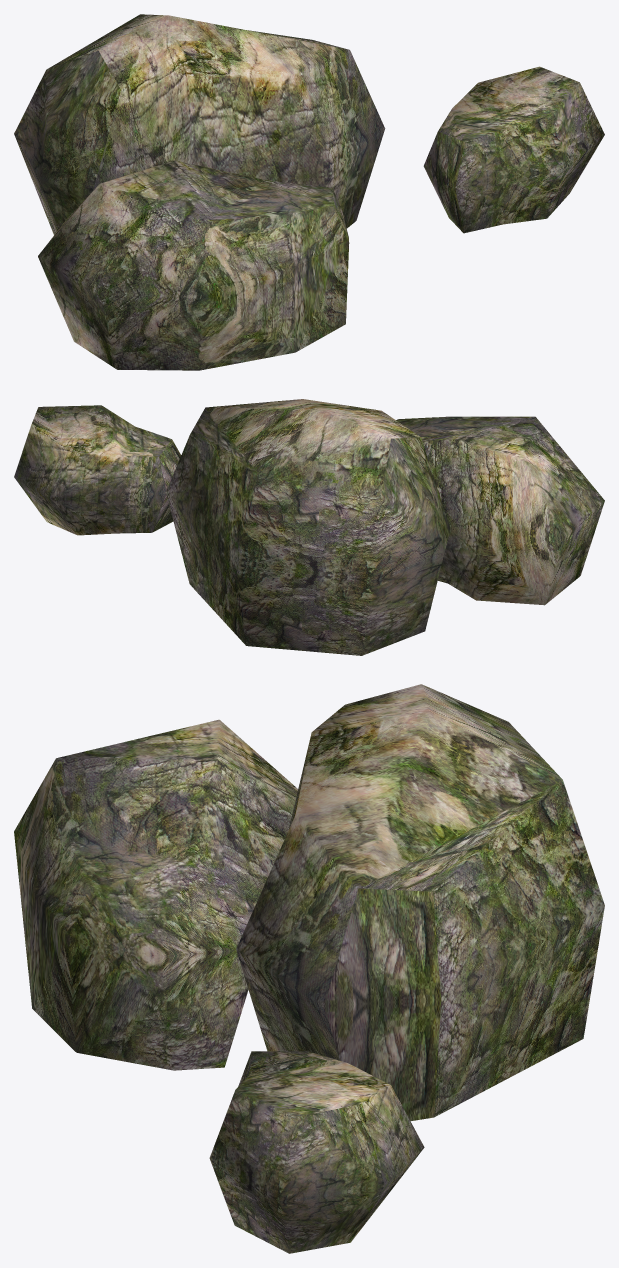
File: S_Rock_Green036.FBX
3 renders of one model, top to bottom at view 1: azimuth 30°, elevation 25°; view 2: azimuth 150°, elevation 25°; view 3: azimuth 270°, elevation 25°, orthographic. The views are drawn at different scales.
Visible parts, largest first — view 1: S_Rock_Green036; view 2: S_Rock_Green036; view 3: S_Rock_Green036.
Boxes of the visible parts, box(x1,y1,x2,y2) form: S_Rock_Green036: box(14, 14, 604, 370); S_Rock_Green036: box(14, 399, 604, 655); S_Rock_Green036: box(14, 684, 604, 1253).
Size of the model in its own units: 954 by 614 by 359.
